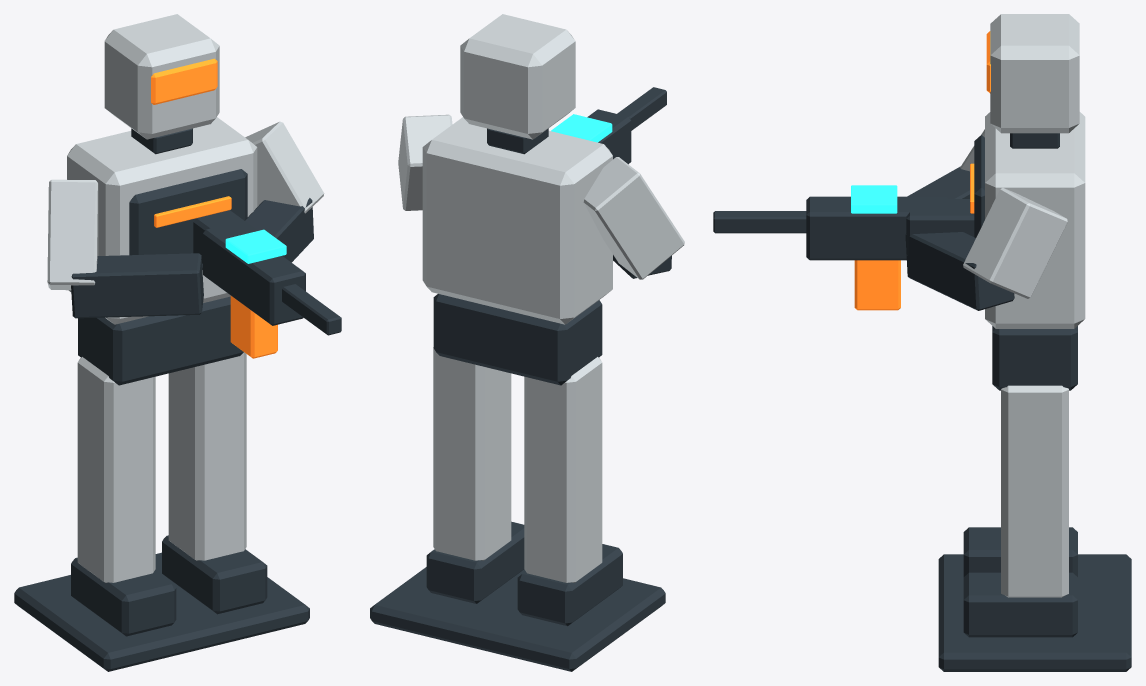
The model's file is SM_TS_ShooterProxy.fbx.
3 views of the same model, side by side, from view 1: azimuth 30°, elevation 25°; view 2: azimuth 150°, elevation 25°; view 3: azimuth 270°, elevation 25° (orthographic). The views are drawn at different scales.
Parts seen in each view (by area): view 1: SM_TS_ShooterProxy; view 2: SM_TS_ShooterProxy; view 3: SM_TS_ShooterProxy.
Boxes of the visible parts, x1,y1,x2,y2 form: SM_TS_ShooterProxy: [14, 14, 341, 671]; SM_TS_ShooterProxy: [370, 14, 684, 671]; SM_TS_ShooterProxy: [713, 14, 1131, 671].
Size of the model in its own units: 92.59 by 117 by 183.
